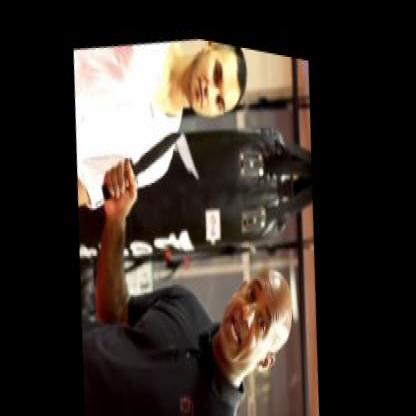knife: (93, 100, 194, 218)
